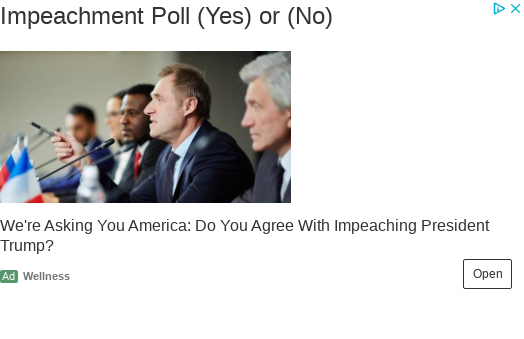fake_button: (453, 252, 520, 293), (481, 1, 524, 19)
